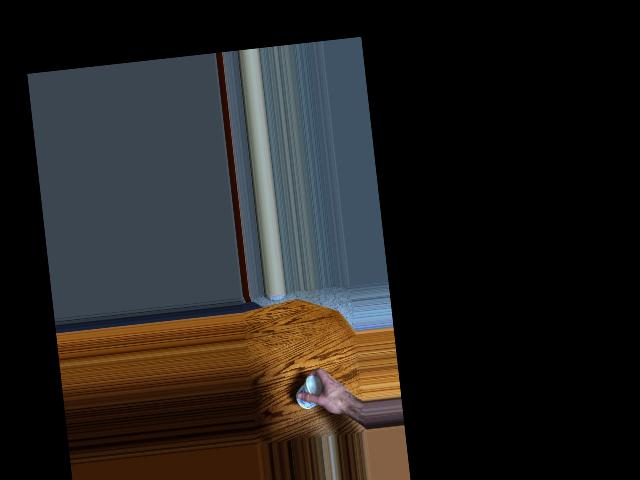cotage: (292, 366, 326, 407)
